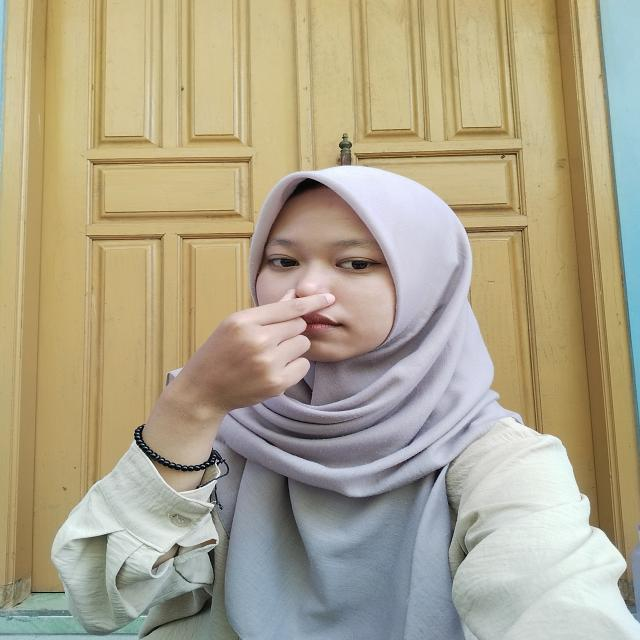bau: (155, 281, 332, 423)
